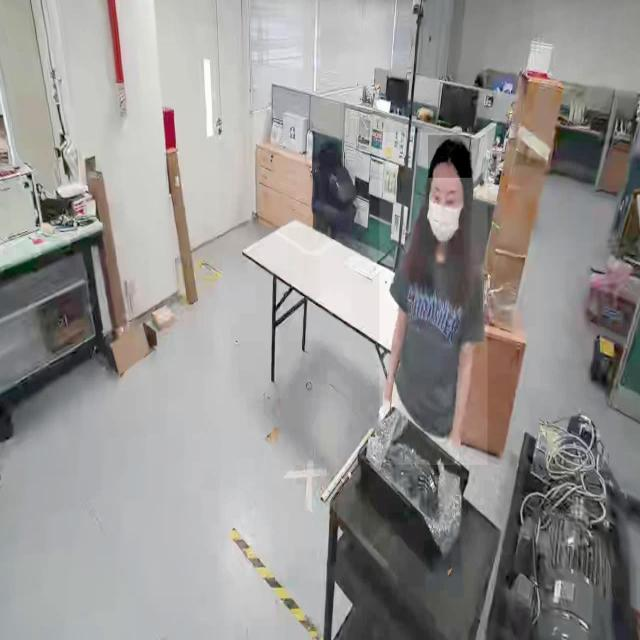face_mask: (426, 182, 464, 255)
head_nohelmet: (428, 135, 472, 179)
person: (380, 132, 488, 466)
